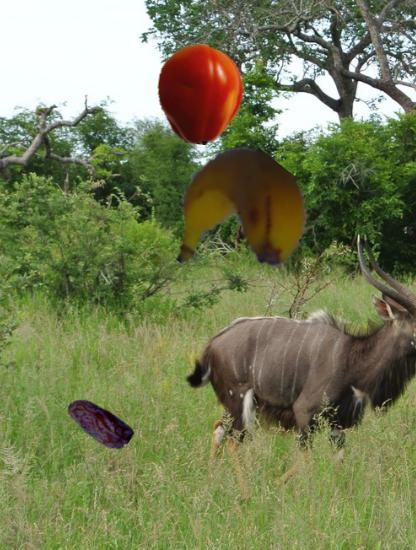Banana: (167, 149, 307, 289)
Dates: (64, 389, 134, 459)
Tomato: (150, 44, 250, 144)
